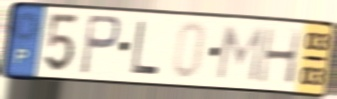0: (170, 20, 209, 83)
5: (44, 11, 82, 76)
H: (256, 26, 305, 86)
L: (128, 19, 161, 79)
M: (214, 24, 267, 85)
P: (78, 13, 123, 78)
